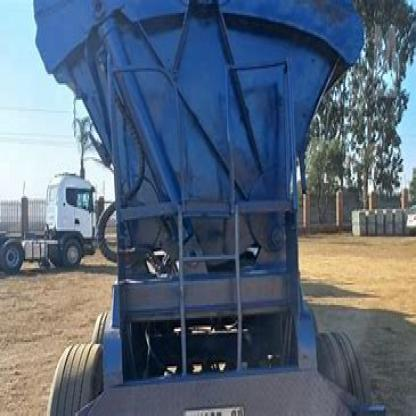dump_truck: (20, 4, 394, 414)
